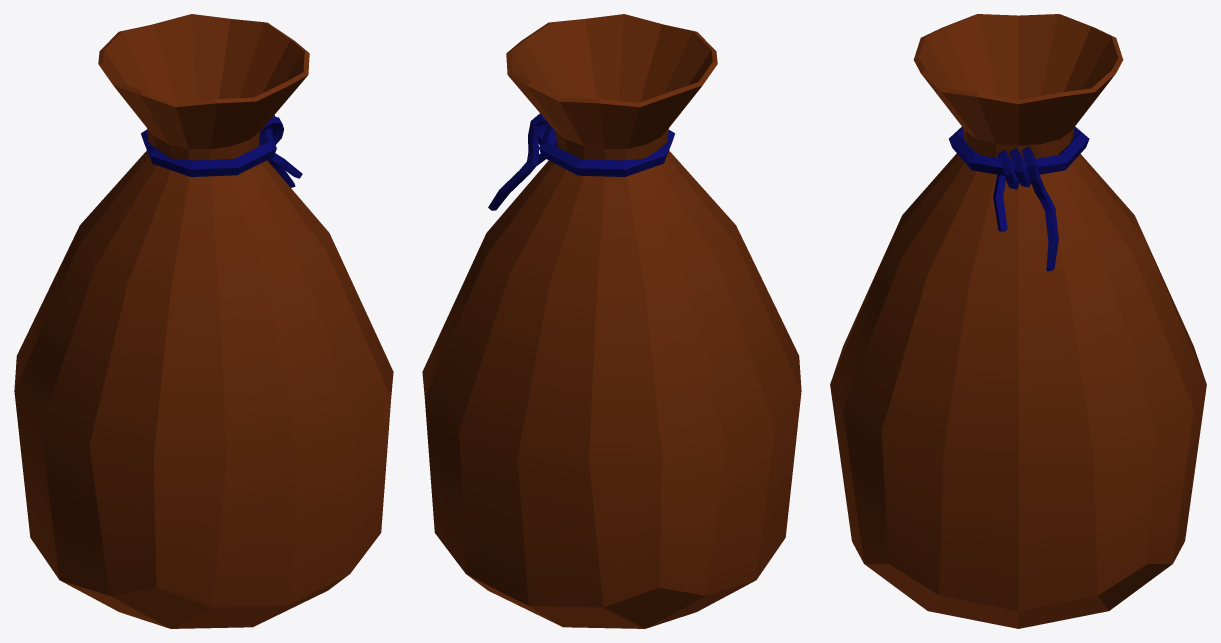
The model's file is MESH_Purse.fbx.
The picture shows the model from 3 angles, left to right: view 1: azimuth 30°, elevation 25°; view 2: azimuth 150°, elevation 25°; view 3: azimuth 270°, elevation 25°; orthographic projection.
Parts seen in each view (by area): view 1: MESH_Purse; view 2: MESH_Purse; view 3: MESH_Purse.
Part boxes in pixels (x1,y1,x2,y2): MESH_Purse: [14, 14, 393, 628]; MESH_Purse: [422, 14, 801, 628]; MESH_Purse: [830, 14, 1206, 628].
Bounding box in the file's own units: 0.1291 × 0.2081 × 0.1291.
